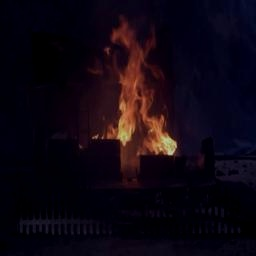fire: (110, 26, 175, 148)
